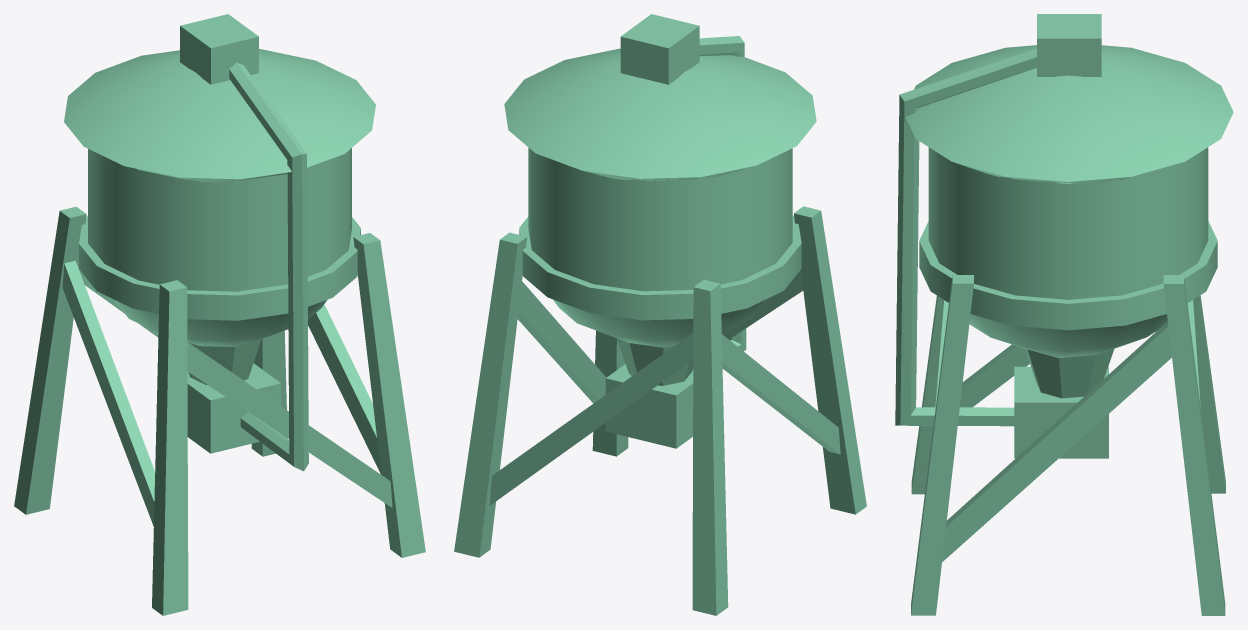
The model's file is Reservoir_B.fbx.
3 views of the same model, side by side, from view 1: azimuth 30°, elevation 25°; view 2: azimuth 150°, elevation 25°; view 3: azimuth 270°, elevation 25° (orthographic). The views are drawn at different scales.
Visible parts, largest first — view 1: Reservoir_B; view 2: Reservoir_B; view 3: Reservoir_B.
Part boxes in pixels (box(x1,y1,x2,y2)): Reservoir_B: box(14, 14, 425, 615); Reservoir_B: box(454, 14, 866, 615); Reservoir_B: box(895, 14, 1233, 615).
Bounding box in the file's own units: 362 × 631 × 371.
